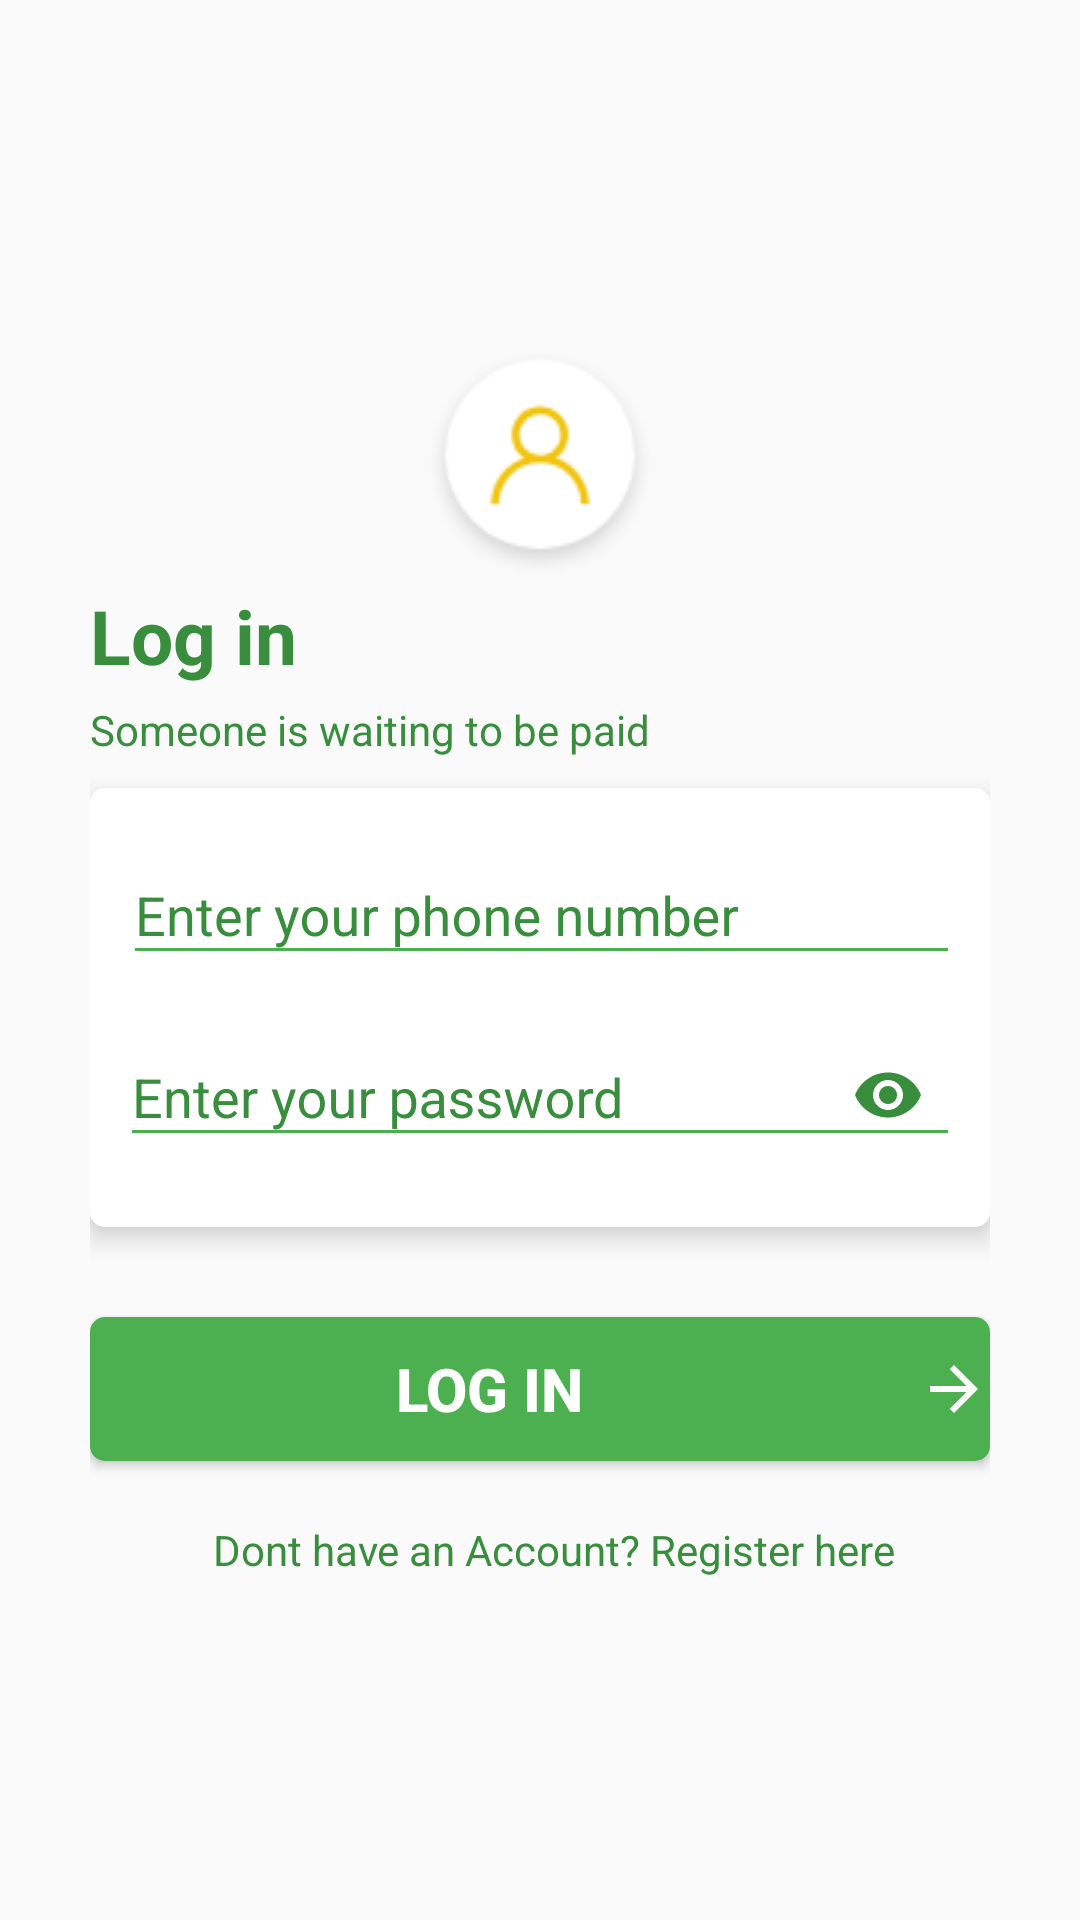

Screen size 1080x1920. Icon name, then its center in pixels as (x,y):
user avata: (540,479)
